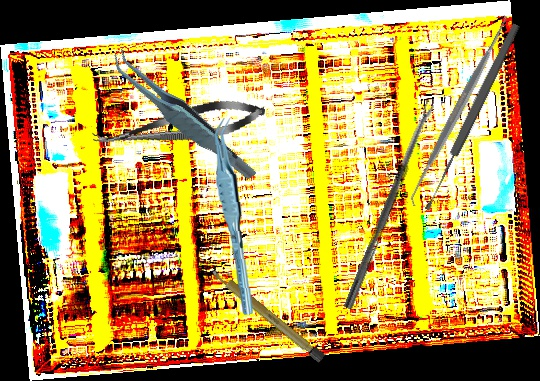Micro Scissor: (90, 93, 268, 158)
Scalpel Handle: (208, 265, 327, 364)
Spatula Surgical: (398, 11, 519, 209)
Surgical Spoon: (343, 101, 436, 311), (421, 22, 522, 212)
Tissue Forceps: (107, 26, 259, 205), (212, 117, 255, 316)
